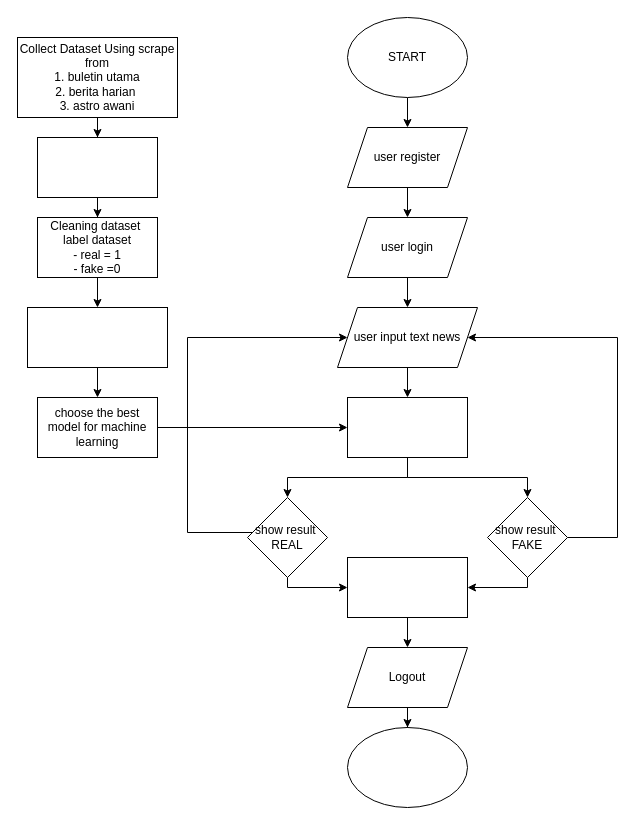
The diagram is 643 pixels wide and 825 high, and some of its shapes have lost their labels. Here are the shapes that lost their labels. From the top down, the centre of each, then its label:
At (x=97, y=167): "Data processing ( combine )".
At (x=97, y=337): "Training and testing machine learning (to get the best model)".
At (x=407, y=427): "model predict news".
At (x=407, y=587): "store result in history".
At (x=407, y=767): "END".
